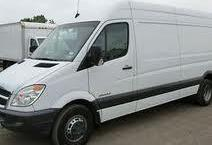headlight: (14, 83, 46, 113)
side_glass: (82, 21, 138, 73)
